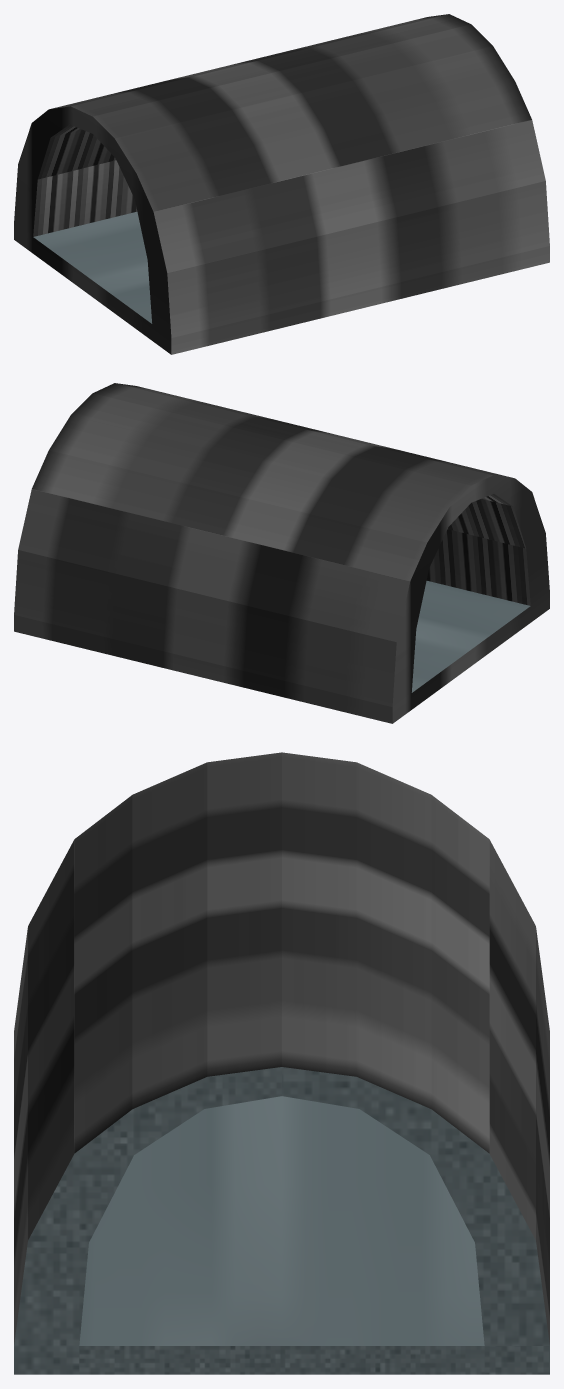
File: Tunnel middle.glb
The picture shows the model from 3 angles, top to bottom: view 1: azimuth 30°, elevation 25°; view 2: azimuth 150°, elevation 25°; view 3: azimuth 270°, elevation 25°; orthographic projection. The views are drawn at different scales.
Visible parts, largest first — view 1: Cylinder; view 2: Cylinder; view 3: Cylinder.
Boxes of the visible parts, x1,y1,x2,y2 form: Cylinder: (14, 14, 549, 354); Cylinder: (14, 383, 549, 723); Cylinder: (14, 752, 549, 1374).
Bounding box in the file's own units: 13.84 × 6.31 × 9.97.
1 material, 1 textured.
